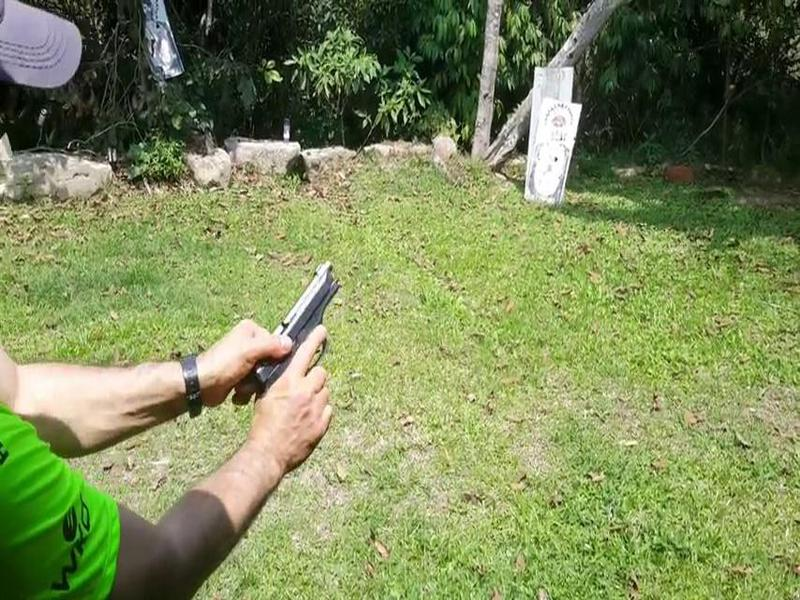Pistola: (240, 257, 354, 431)
